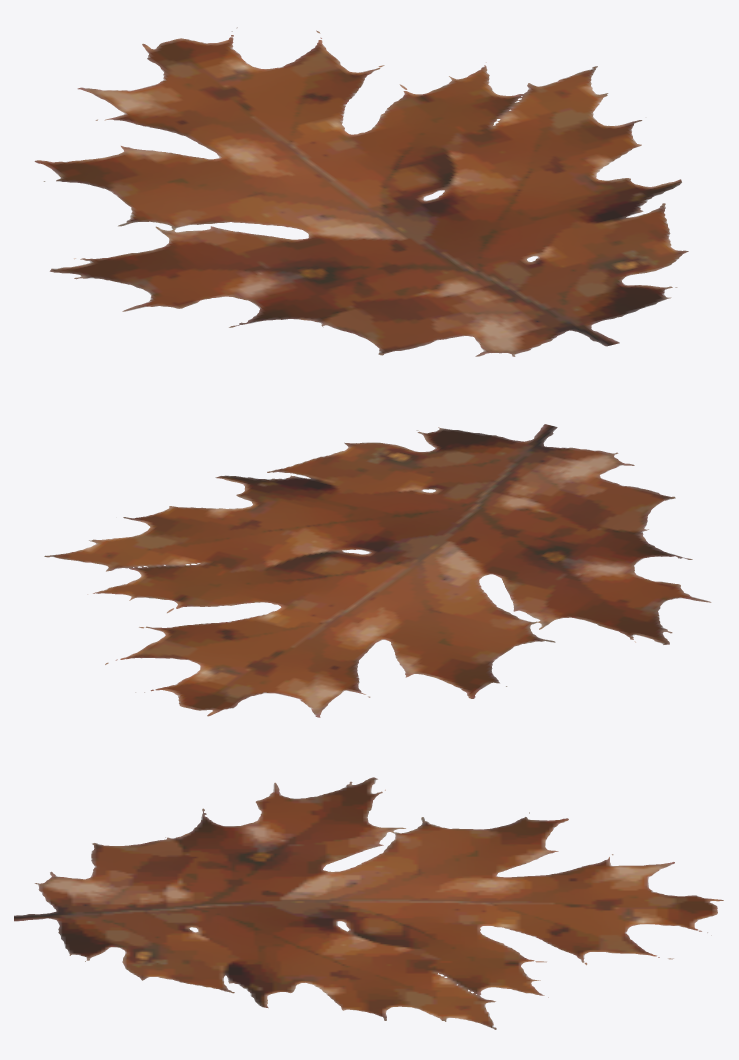
The model's file is FSF_Leaf_05.FBX.
The picture shows the model from 3 angles, top to bottom: view 1: azimuth 30°, elevation 25°; view 2: azimuth 150°, elevation 25°; view 3: azimuth 270°, elevation 25°; orthographic projection. The views are drawn at different scales.
Visible parts, largest first — view 1: FSF_Leaf_05; view 2: FSF_Leaf_05; view 3: FSF_Leaf_05.
Part boxes in pixels (x1,y1,x2,y2): FSF_Leaf_05: (34,27,688,356); FSF_Leaf_05: (44,424,711,717); FSF_Leaf_05: (14,777,723,1029).
Size of the model in its own units: 15.79 by 1.79e-07 by 17.38.
